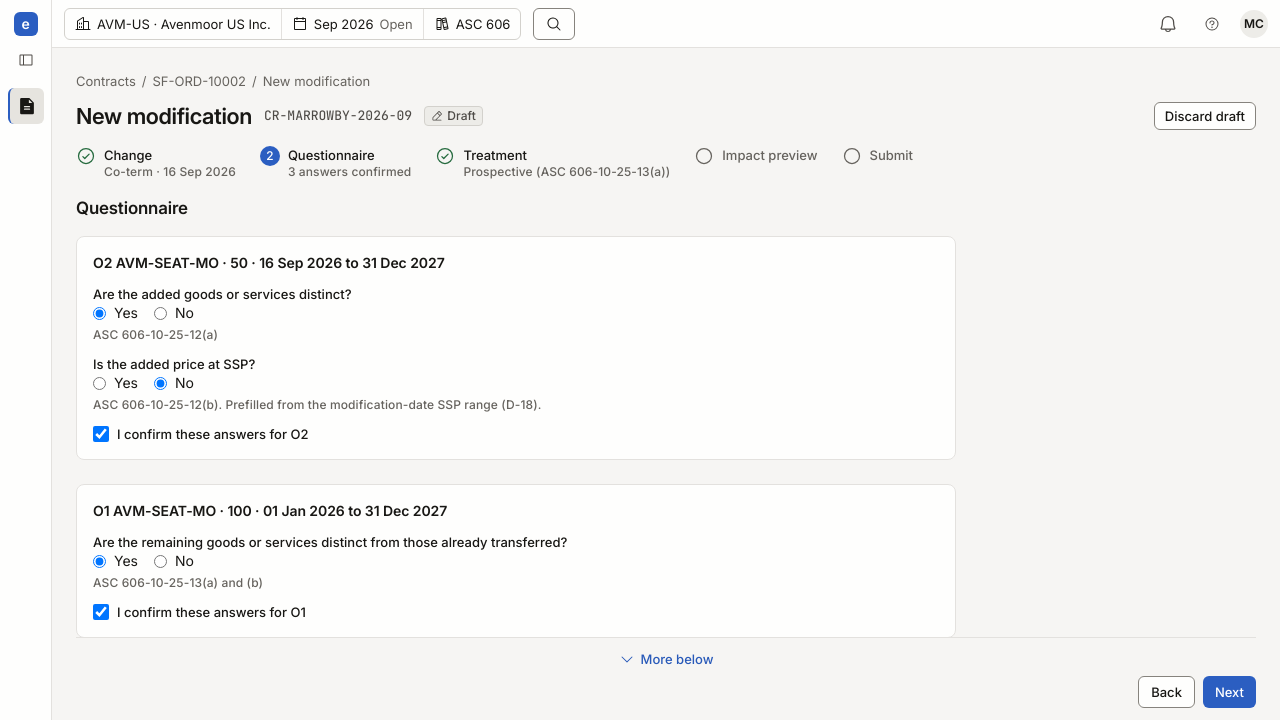
Test: SF-07 the wizard of a draft › a row that states no price test shows no sentence and the SSP version alone
Expected: the element "Is the added price at SSP?" is shown, [93,356,542,412]
Click the button "Next": point(1229, 692) [1203,676,1256,708]
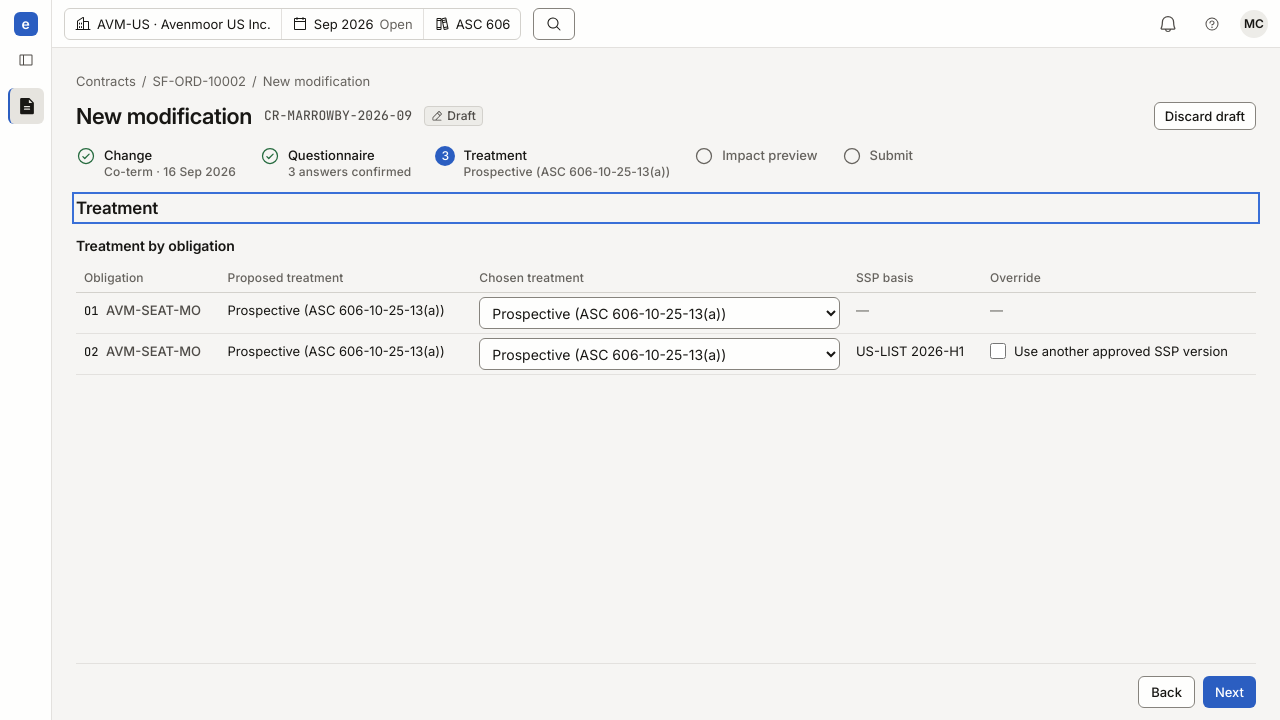
Expected: the text "US-LIST 2026-H1" is shown, [848,334,982,374]
